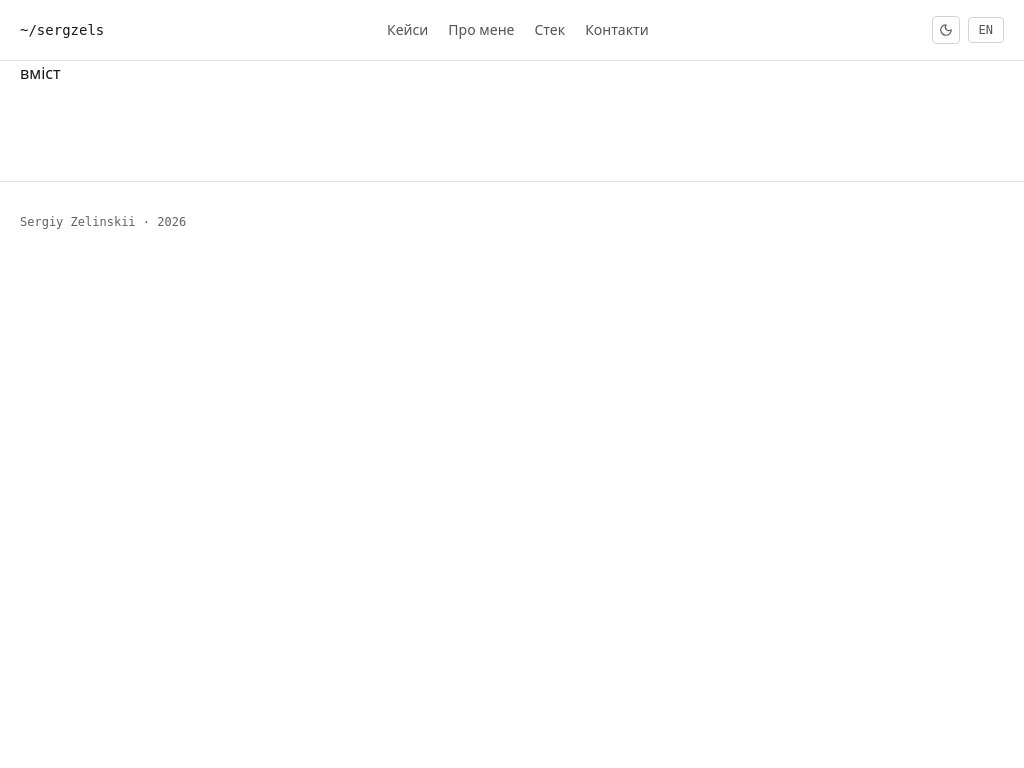
Test: Shell › має кнопку теми з підписом, зрозумілим без іконки
Step 1. Click the button named "Увімкнути темну тему" → {"x": 946, "y": 30}, box [932,16,960,44]
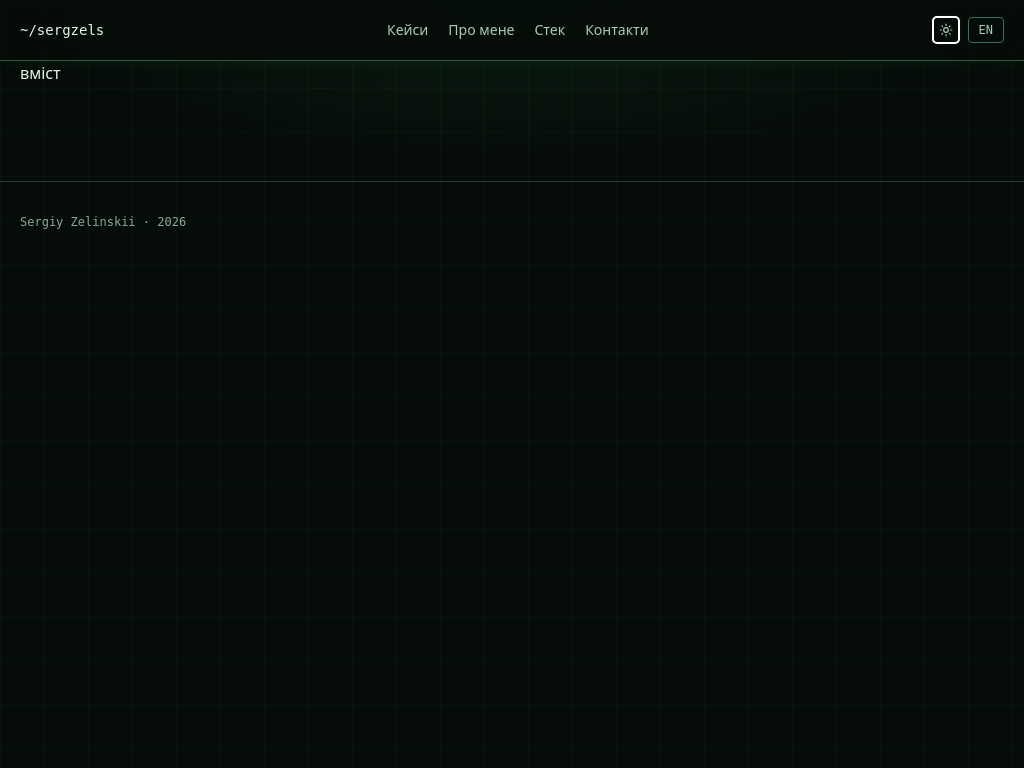
Expected: the button named "Увімкнути світлу тему" is shown, [932,16,960,44]
